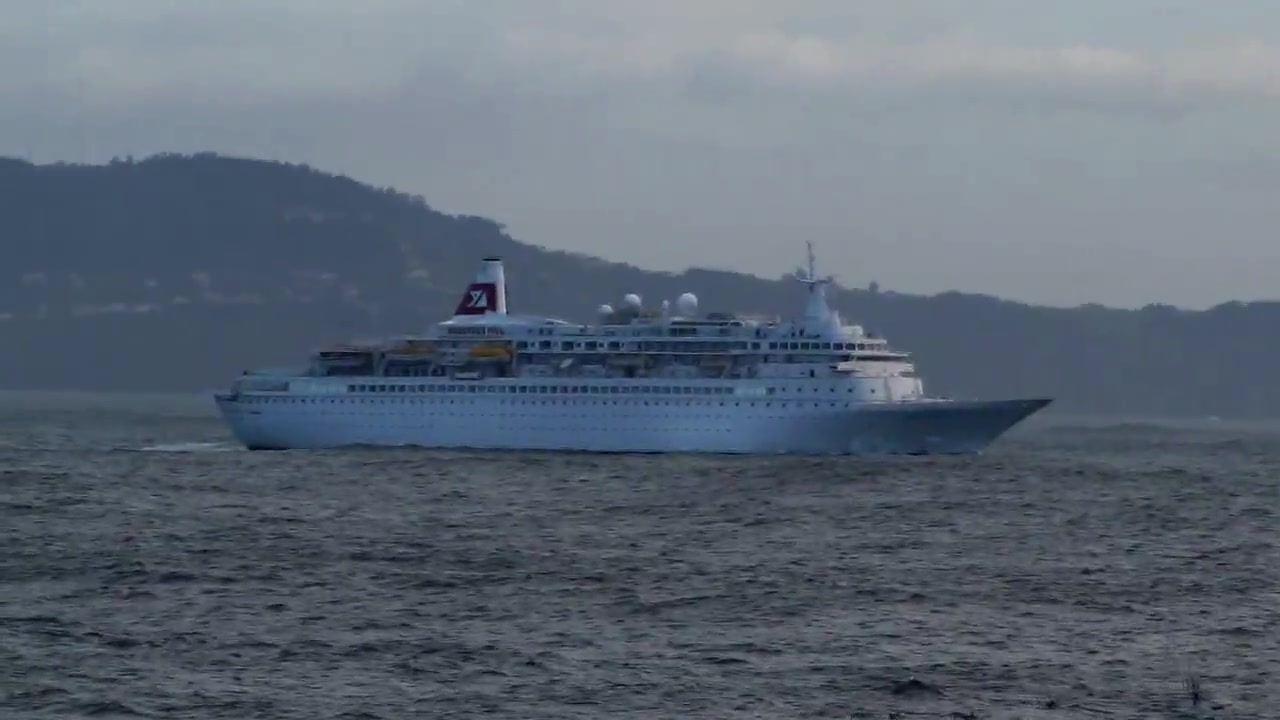boat: (214, 240, 1057, 458)
